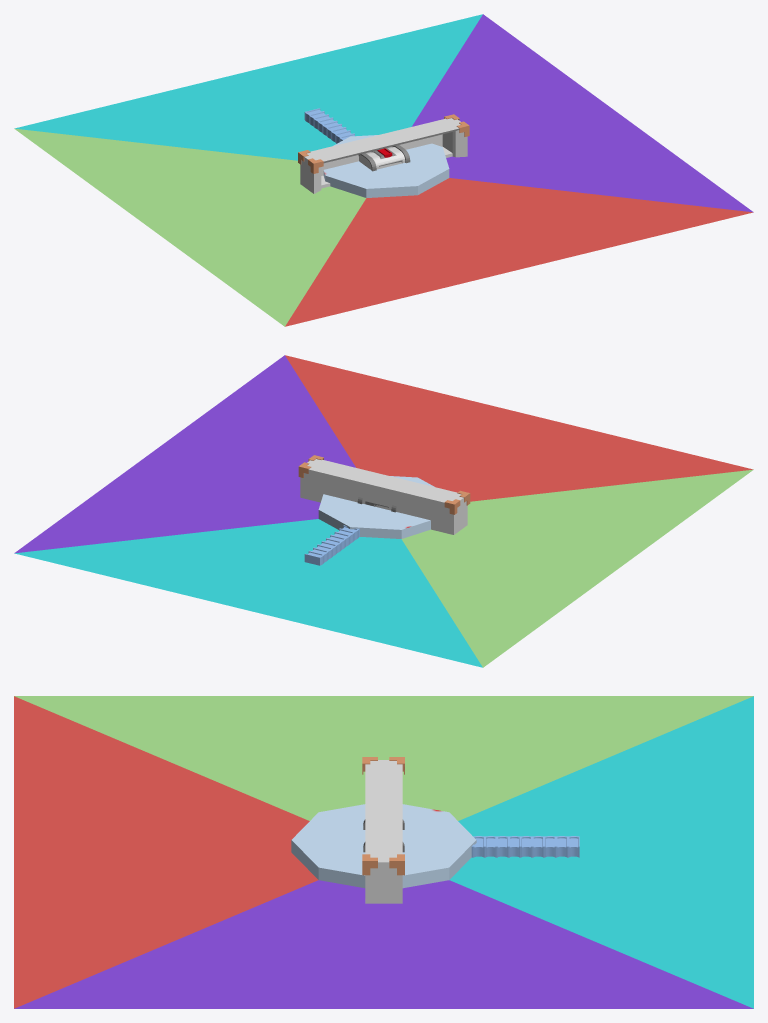
The model's file is Summ.fbx.
3 views of the same model, one above another, from view 1: azimuth 30°, elevation 25°; view 2: azimuth 150°, elevation 25°; view 3: azimuth 270°, elevation 25° (orthographic). The views are drawn at different scales.
Visible parts, largest first — view 1: Floor, SummoningPlatform, BookShelf, BookLine, Chest; view 2: Floor, BookShelf, SummoningPlatform, BookLine; view 3: Floor, SummoningPlatform, BookShelf, BookLine, Binding.
Part boxes in pixels (bbox=[...]): Floor: bbox=[14, 14, 753, 326]; SummoningPlatform: bbox=[323, 135, 449, 197]; BookShelf: bbox=[300, 118, 467, 193]; BookLine: bbox=[304, 108, 354, 143]; Chest: bbox=[359, 147, 405, 169]; Floor: bbox=[14, 355, 753, 667]; BookShelf: bbox=[300, 459, 467, 534]; SummoningPlatform: bbox=[318, 476, 434, 538]; BookLine: bbox=[304, 525, 359, 565]; Floor: bbox=[14, 696, 753, 1008]; SummoningPlatform: bbox=[291, 804, 476, 888]; BookShelf: bbox=[365, 760, 402, 903]; BookLine: bbox=[471, 836, 579, 857]; Binding: bbox=[362, 757, 404, 875].
Size of the model in its own units: 4000 by 570 by 4000.
10 materials, 1 textured.
